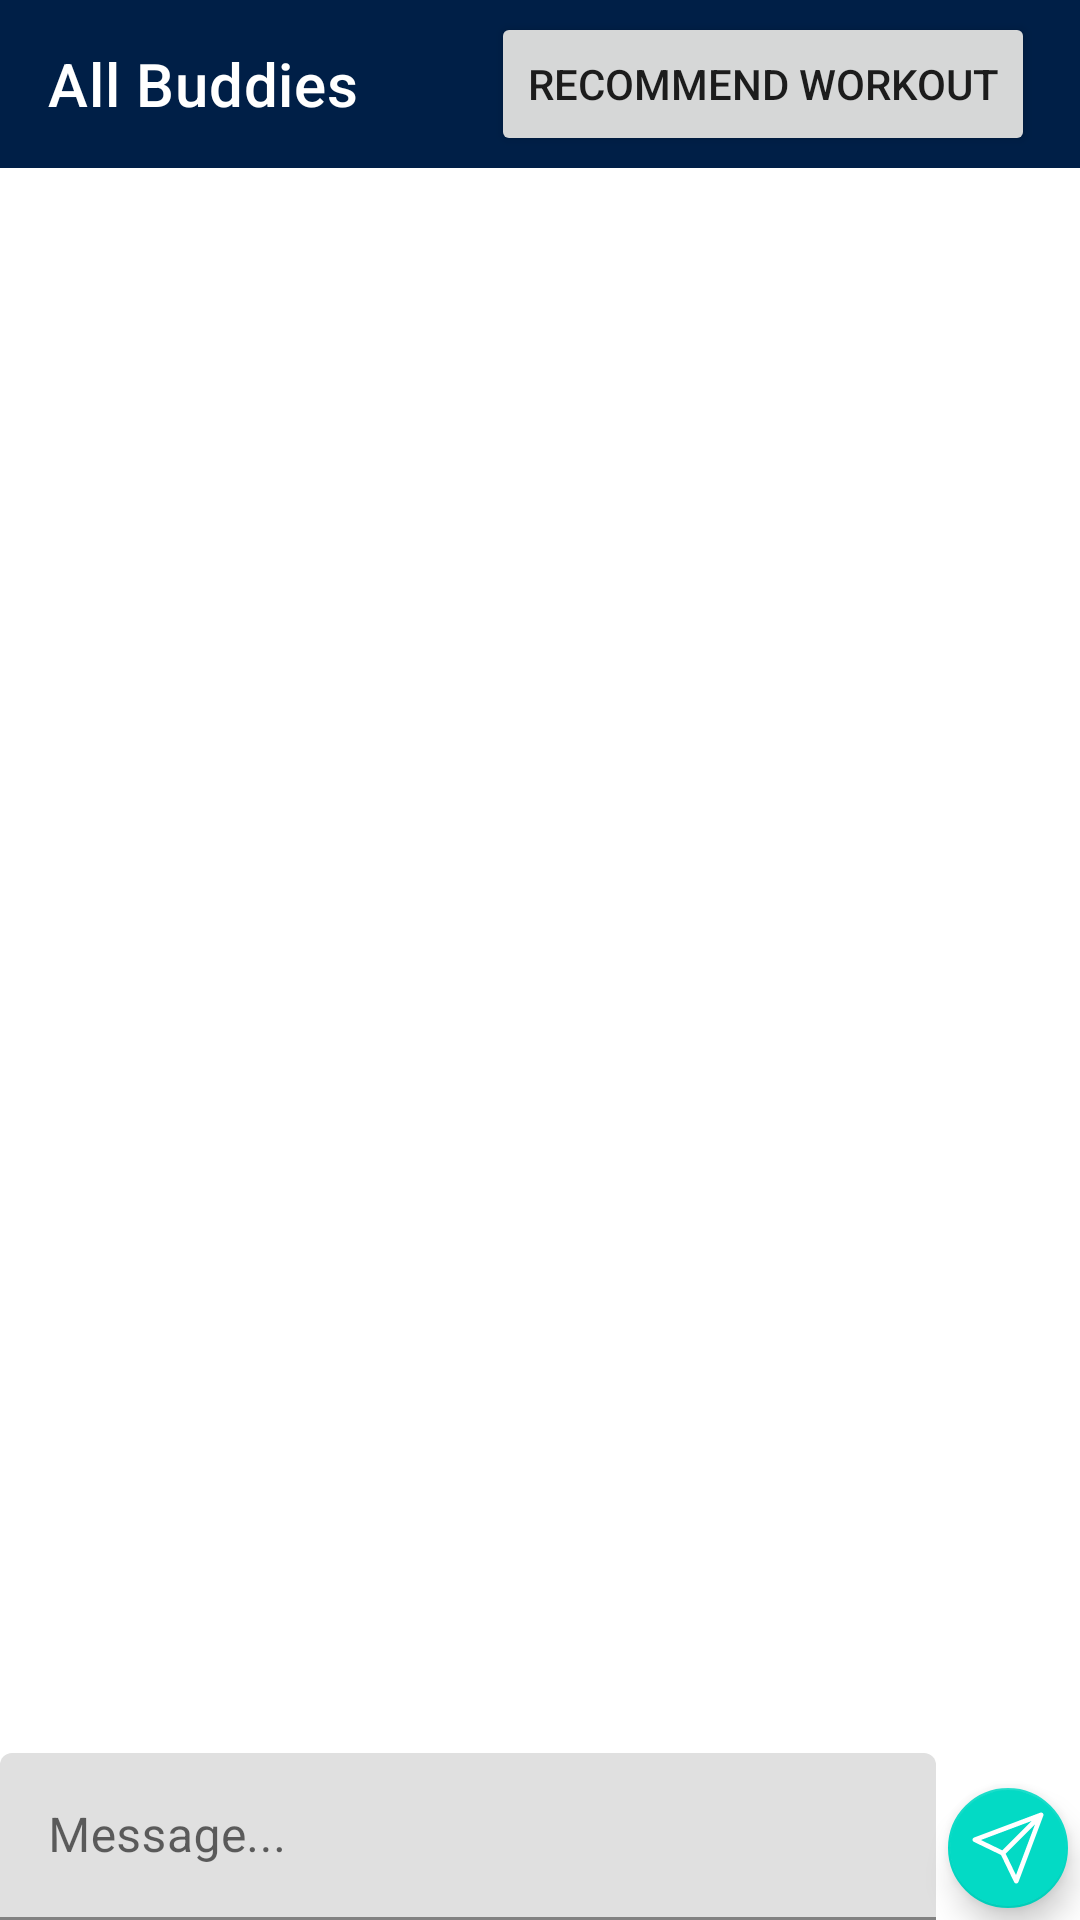

Named icons in this screenshot (1080×1920) and their bounding boxes, [left=x1, top=y1, right=x2, bottom=y2]:
send: [left=948, top=1788, right=1071, bottom=1920]
